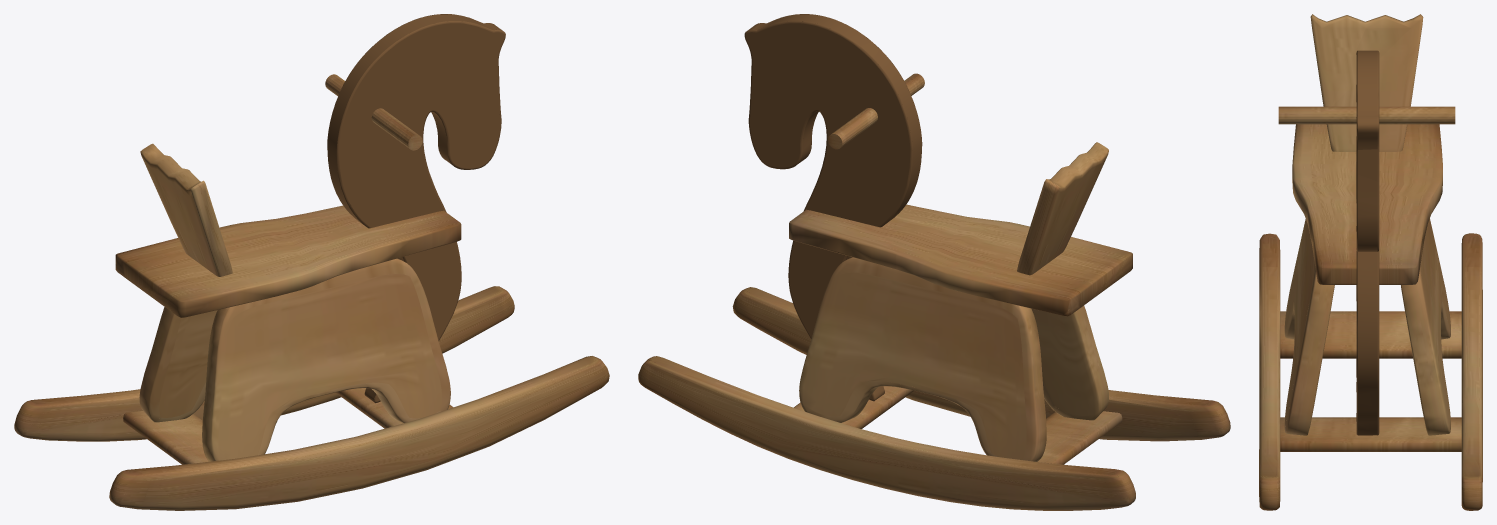
The model's file is obj_loshadka_rocking_horse_woode.glb.
3 renders of one model, left to right at view 1: azimuth 30°, elevation 25°; view 2: azimuth 150°, elevation 25°; view 3: azimuth 270°, elevation 25°, orthographic. The views are drawn at different scales.
Parts seen in each view (by area): view 1: Object_2; view 2: Object_2; view 3: Object_2.
Boxes of the visible parts, x1,y1,x2,y2 form: Object_2: [14, 14, 609, 510]; Object_2: [638, 14, 1230, 510]; Object_2: [1259, 14, 1482, 510].
Bounding box in the file's own units: 0.8999 × 0.7041 × 0.3301.
2 materials, 2 textured.
